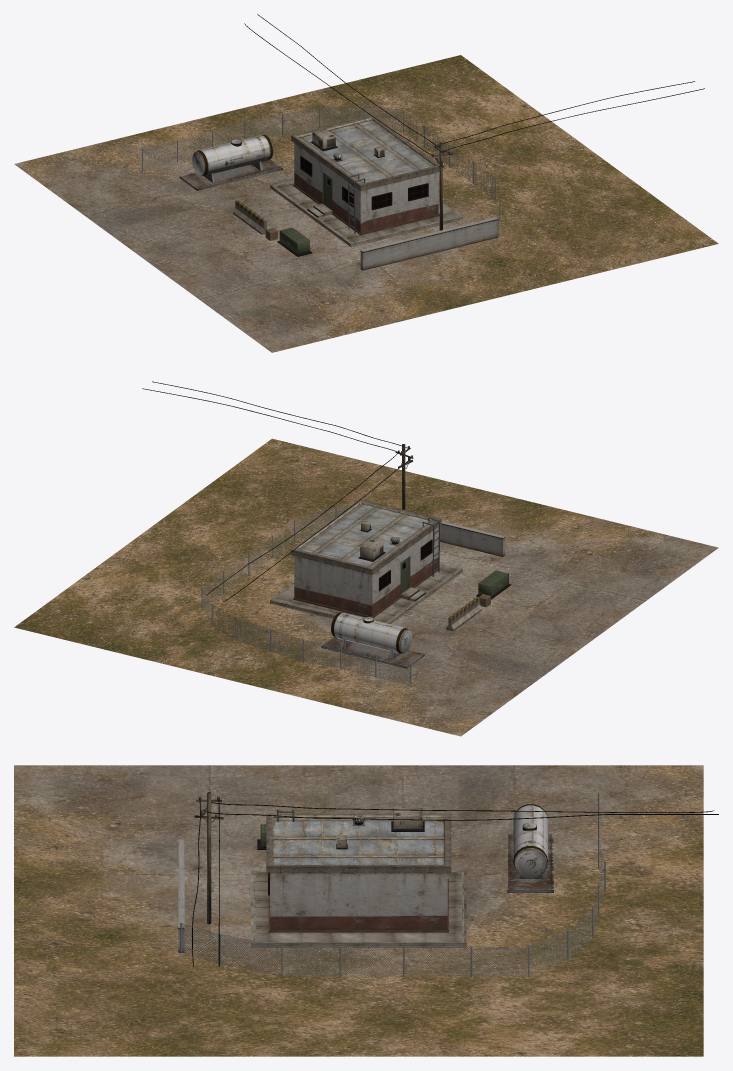
File: casa_baixada2.glb
3 renders of one model, top to bottom at view 1: azimuth 30°, elevation 25°; view 2: azimuth 150°, elevation 25°; view 3: azimuth 270°, elevation 25°, orthographic. The views are drawn at different scales.
Visible parts, largest first — view 1: all_connected_base_terrain_0, all_connected_base_building_0, all_connected_base_Material_0, all_connected_base_ROOF_0, all_connected_base_tankred_0, all_connected_base_side_wall_0, all_connected_base_pave_0, all_connected_base_tankicylinder_0, all_connected_base_tank_base_0, all_connected_base_genrator_base_0, all_connected_base_barricade_0; view 2: all_connected_base_terrain_0, all_connected_base_building_0, all_connected_base_Material_0, all_connected_base_ROOF_0, all_connected_base_tankred_0, all_connected_base_pave_0, all_connected_base_tankicylinder_0, all_connected_base_side_wall_0, all_connected_base_tank_base_0, all_connected_base_barricade_0, all_connected_base_genrator_base_0; view 3: all_connected_base_terrain_0, all_connected_base_building_0, all_connected_base_Material_0, all_connected_base_ROOF_0, all_connected_base_pave_0, all_connected_base_tankred_0, all_connected_base_tankicylinder_0, all_connected_base_tank_base_0, all_connected_base_oiltank_lid_0, all_connected_base_pole_0, all_connected_base_roof_gen_0, all_connected_base_side_wall_0.
Part boxes in pixels (bbox=[...]): all_connected_base_terrain_0: bbox=[14, 55, 718, 352]; all_connected_base_building_0: bbox=[291, 116, 439, 235]; all_connected_base_Material_0: bbox=[143, 105, 495, 199]; all_connected_base_ROOF_0: bbox=[296, 118, 436, 183]; all_connected_base_tankred_0: bbox=[142, 14, 704, 256]; all_connected_base_side_wall_0: bbox=[360, 217, 498, 270]; all_connected_base_pave_0: bbox=[270, 179, 462, 246]; all_connected_base_tankicylinder_0: bbox=[199, 135, 270, 175]; all_connected_base_tank_base_0: bbox=[179, 159, 282, 190]; all_connected_base_genrator_base_0: bbox=[279, 162, 440, 253]; all_connected_base_barricade_0: bbox=[233, 200, 267, 234]; all_connected_base_terrain_0: bbox=[14, 438, 718, 736]; all_connected_base_building_0: bbox=[291, 499, 441, 617]; all_connected_base_Material_0: bbox=[202, 503, 410, 685]; all_connected_base_ROOF_0: bbox=[296, 501, 435, 567]; all_connected_base_tankred_0: bbox=[142, 381, 511, 686]; all_connected_base_pave_0: bbox=[270, 563, 462, 624]; all_connected_base_tankicylinder_0: bbox=[334, 613, 404, 653]; all_connected_base_side_wall_0: bbox=[438, 521, 505, 556]; all_connected_base_tank_base_0: bbox=[321, 636, 424, 668]; all_connected_base_barricade_0: bbox=[446, 596, 482, 631]; all_connected_base_genrator_base_0: bbox=[403, 464, 508, 596]; all_connected_base_terrain_0: bbox=[14, 765, 703, 1056]; all_connected_base_building_0: bbox=[266, 813, 451, 932]; all_connected_base_Material_0: bbox=[181, 842, 604, 976]; all_connected_base_ROOF_0: bbox=[272, 815, 445, 864]; all_connected_base_pave_0: bbox=[251, 870, 466, 947]; all_connected_base_tankred_0: bbox=[180, 792, 718, 976]; all_connected_base_tankicylinder_0: bbox=[513, 805, 548, 861]; all_connected_base_tank_base_0: bbox=[507, 834, 553, 892]; all_connected_base_oiltank_lid_0: bbox=[513, 823, 547, 878]; all_connected_base_pole_0: bbox=[194, 792, 223, 924]; all_connected_base_roof_gen_0: bbox=[337, 808, 422, 847]; all_connected_base_side_wall_0: bbox=[178, 839, 184, 952].
Bounding box in the file's own units: 38.61 × 7.3 × 35.29.
19 materials, 19 textured.
